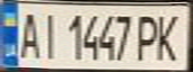1: (63, 10, 84, 61)
4: (97, 10, 118, 61), (81, 10, 100, 61)
7: (112, 11, 136, 61)
A: (15, 7, 42, 60)
I: (36, 8, 60, 60)
K: (151, 10, 187, 62)
P: (136, 10, 163, 62)
